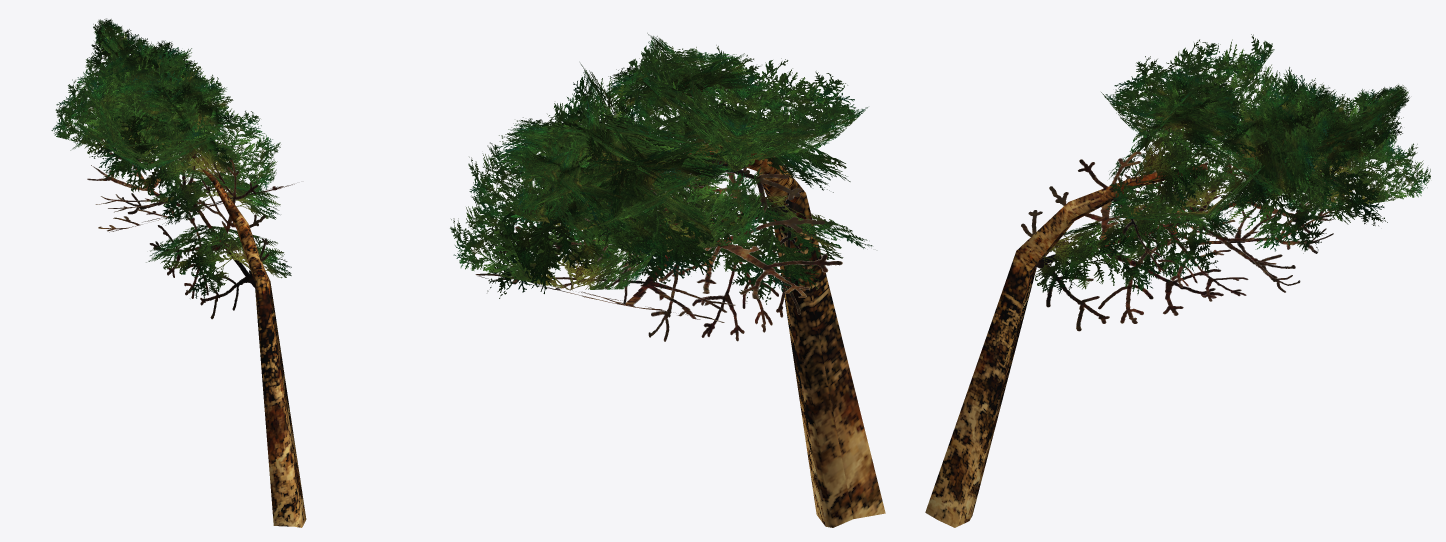
Rendered from flora_tree_cypress_windswept.glb.
3 renders of one model, left to right at view 1: azimuth 30°, elevation 25°; view 2: azimuth 150°, elevation 25°; view 3: azimuth 270°, elevation 25°, orthographic. The views are drawn at different scales.
Visible parts, largest first — view 1: flora_tree_cypress_windswept_part1, flora_tree_cypress_windswept_part0; view 2: flora_tree_cypress_windswept_part1, flora_tree_cypress_windswept_part0; view 3: flora_tree_cypress_windswept_part1, flora_tree_cypress_windswept_part0.
Boxes of the visible parts, x1,y1,x2,y2 form: flora_tree_cypress_windswept_part1: (51, 18, 291, 298); flora_tree_cypress_windswept_part0: (87, 146, 306, 527); flora_tree_cypress_windswept_part1: (450, 33, 872, 304); flora_tree_cypress_windswept_part0: (475, 100, 885, 527); flora_tree_cypress_windswept_part1: (1035, 34, 1430, 294); flora_tree_cypress_windswept_part0: (925, 151, 1351, 527).
Bounding box in the file's own units: 8.12 × 12.88 × 12.54.
2 materials, 2 textured.
